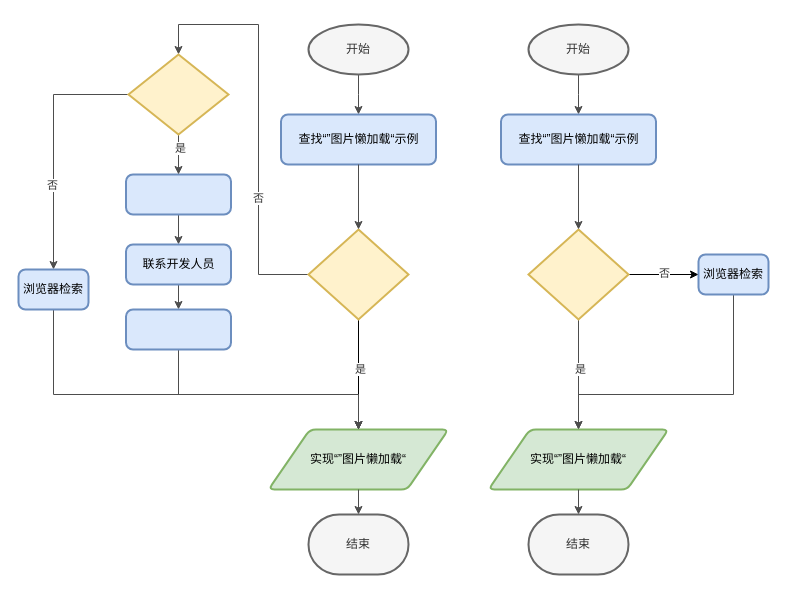
This 786x593 diagram has some shape labels left out. The box of each missing label's shape, as (x1, y1, x2, y2) in pixels:
已有相关 示例代码: (307, 228, 409, 320)
开放”图片“懒加载相关代码权限: (124, 308, 232, 350)
生态市场存在: (527, 228, 629, 320)
知道有项目 实现了此功能: (127, 53, 229, 135)
联系项目经理: (124, 173, 232, 215)
